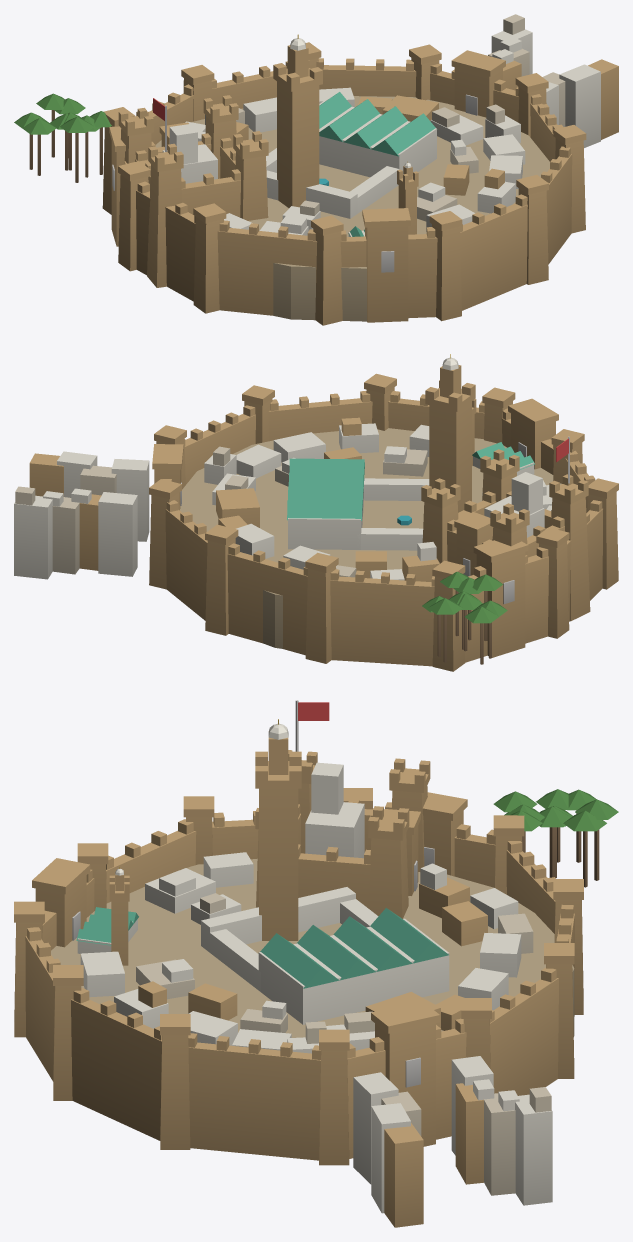
Rendered from city_isl_a.glb.
The picture shows the model from 3 angles, top to bottom: view 1: azimuth 30°, elevation 25°; view 2: azimuth 150°, elevation 25°; view 3: azimuth 270°, elevation 25°; orthographic projection. The views are drawn at different scales.
Parts seen in each view (by area): view 1: city_isl_a; view 2: city_isl_a; view 3: city_isl_a.
Part boxes in pixels (bbox=[...]): city_isl_a: bbox=[14, 14, 618, 325]; city_isl_a: bbox=[14, 354, 618, 671]; city_isl_a: bbox=[14, 700, 618, 1227].
Size of the model in its own units: 3.86 by 1.54 by 3.01.
